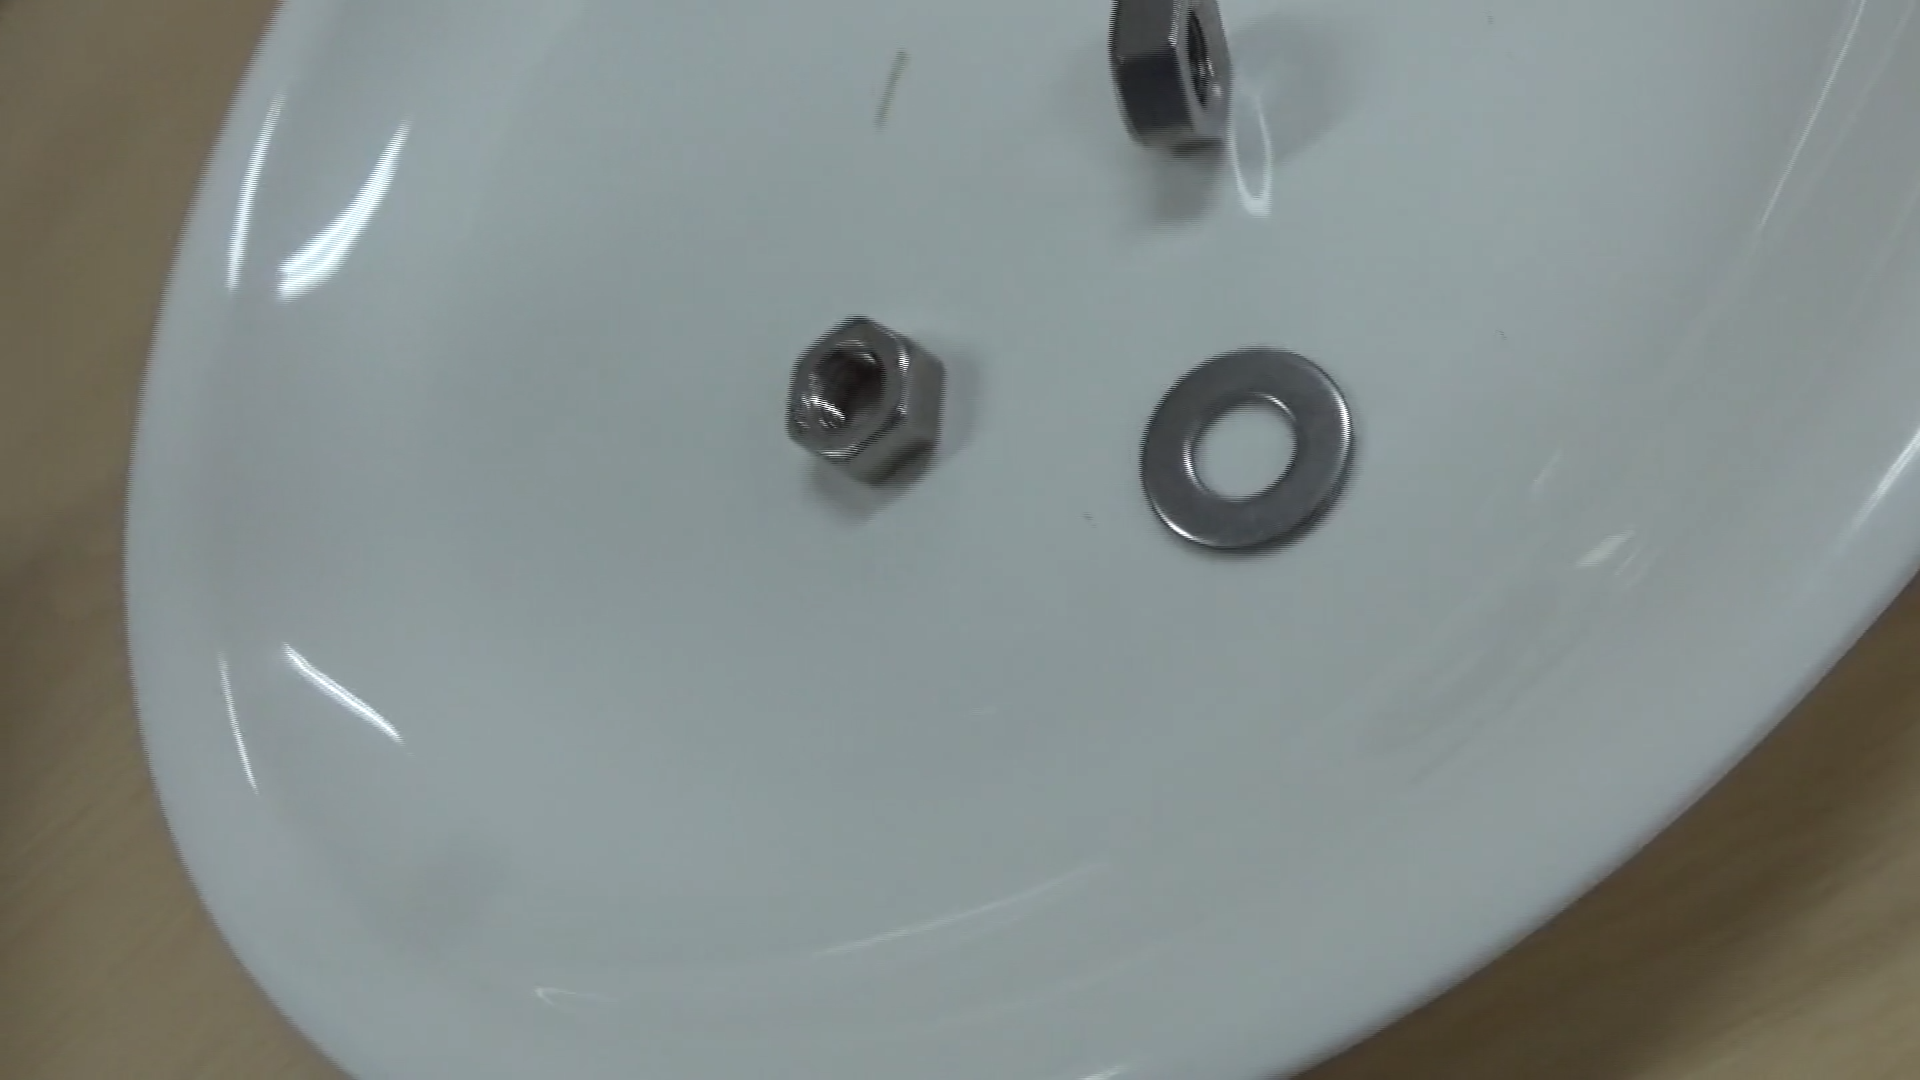nut: (762, 291, 973, 520), (1065, 0, 1274, 158)
washer: (1106, 318, 1375, 601)
